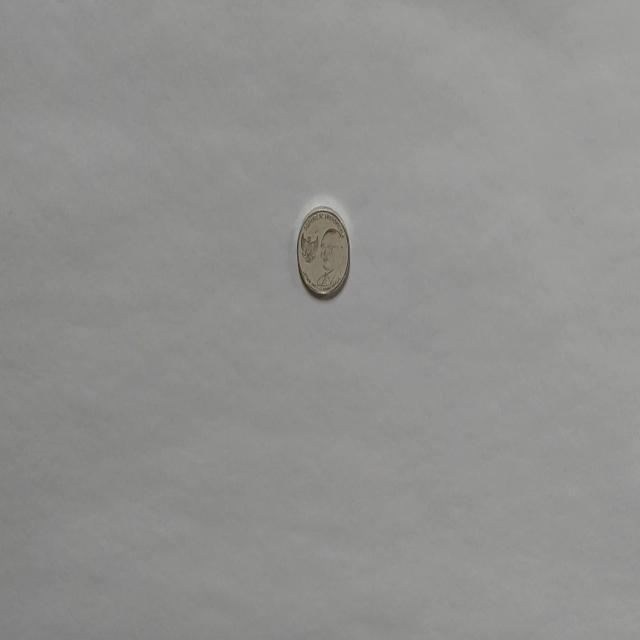lima ratus rupiah: (296, 206, 350, 300)
